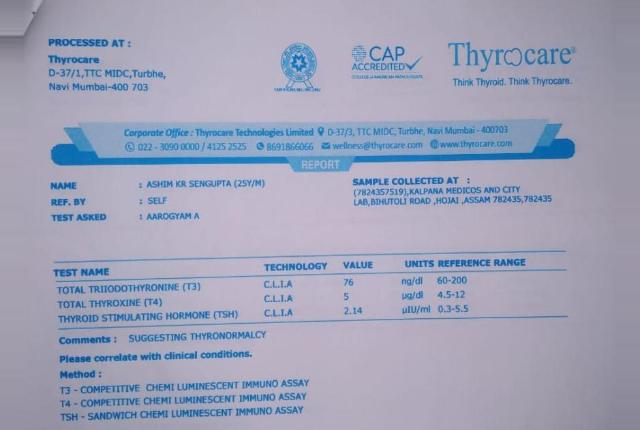Clinical_Conditions: (53, 381, 315, 426)
Name: (143, 177, 276, 188)
Ref_By: (145, 195, 172, 205)
Reference_Range: (436, 272, 472, 317)
Technology: (262, 277, 300, 325)
Test_Asked: (144, 211, 206, 223)
Test_Name: (53, 281, 247, 324)
Unit: (400, 273, 433, 319)
Value: (337, 274, 369, 320)
